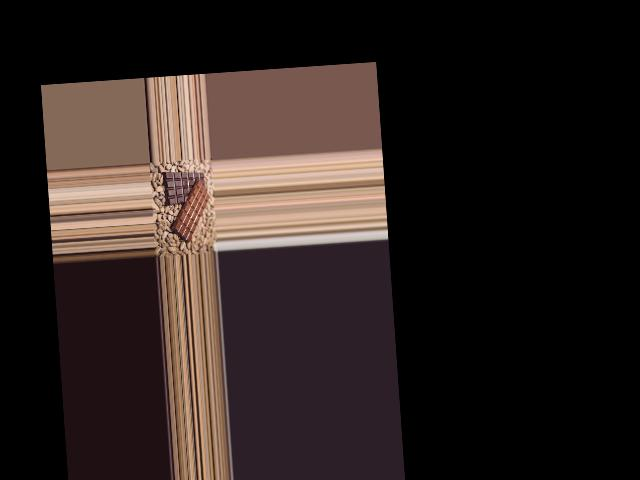chocolate: (160, 164, 208, 205)
